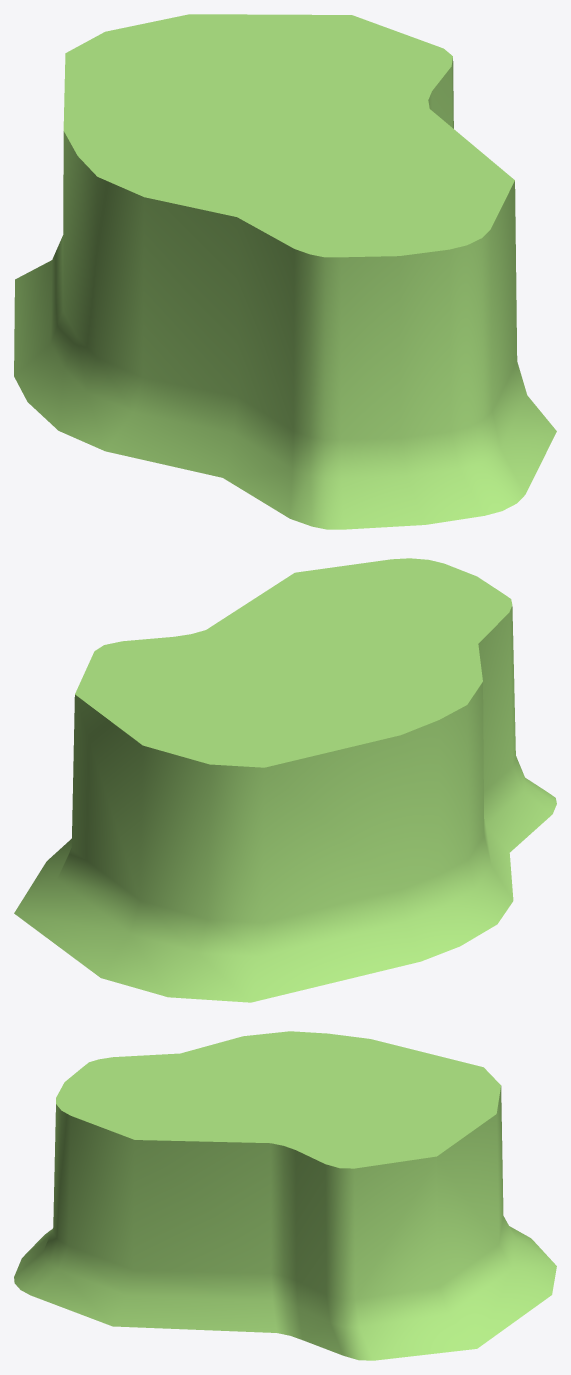
File: IslandNeutral1.fbx
3 renders of one model, top to bottom at view 1: azimuth 30°, elevation 25°; view 2: azimuth 150°, elevation 25°; view 3: azimuth 270°, elevation 25°, orthographic. The views are drawn at different scales.
Visible parts, largest first — view 1: IslandNeutral1; view 2: IslandNeutral1; view 3: IslandNeutral1.
Boxes of the visible parts, <box> form: IslandNeutral1: <box>14,14,556,529</box>; IslandNeutral1: <box>14,558,556,1002</box>; IslandNeutral1: <box>14,1031,556,1360</box>.
Size of the model in its own units: 15.59 by 5.61 by 11.23.
